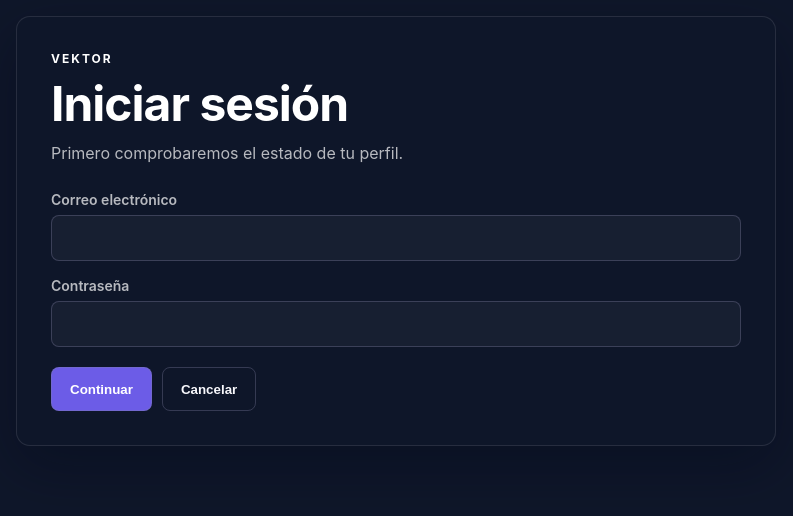
it: Login › debe mostrar error cuando el login falla
Step 1. Type "wrong@example.com" into the field labelled "Correo electrónico" → (396, 238), box [51,215,741,261]
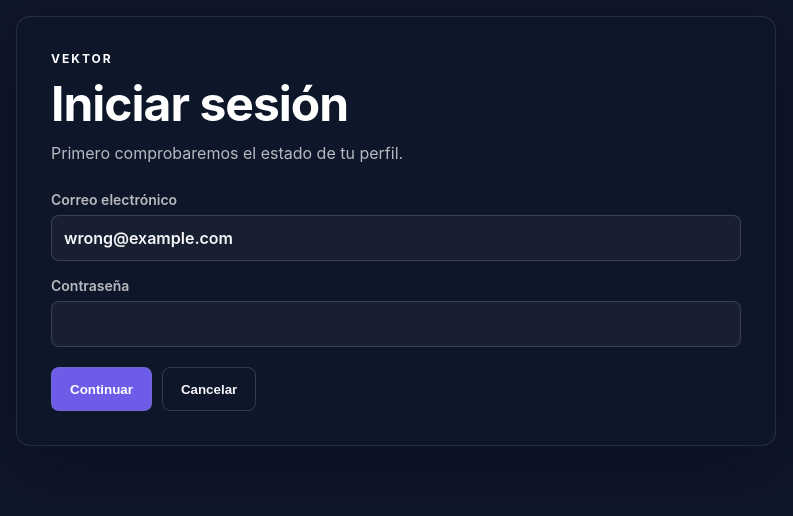
Step 2. Type "wrongpassword" into the password field labelled "Contraseña" → (396, 324), box [51,301,741,347]
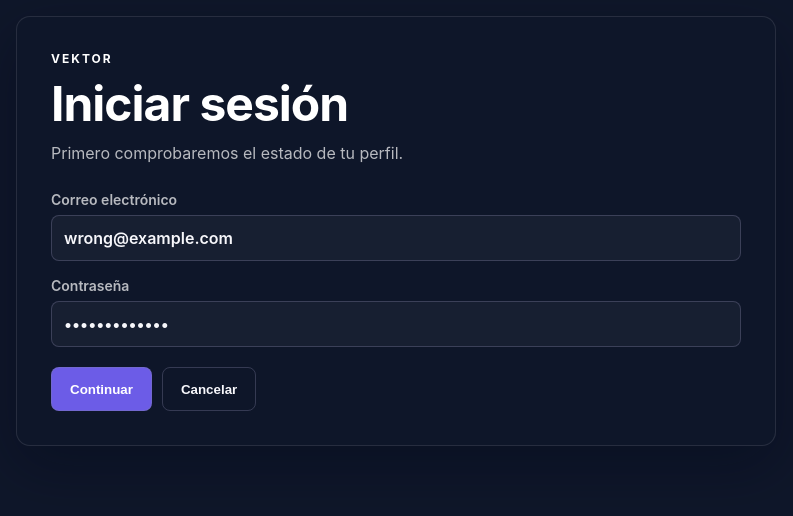
Step 3. Click the button "Continuar" → (101, 389), box [51,367,152,411]
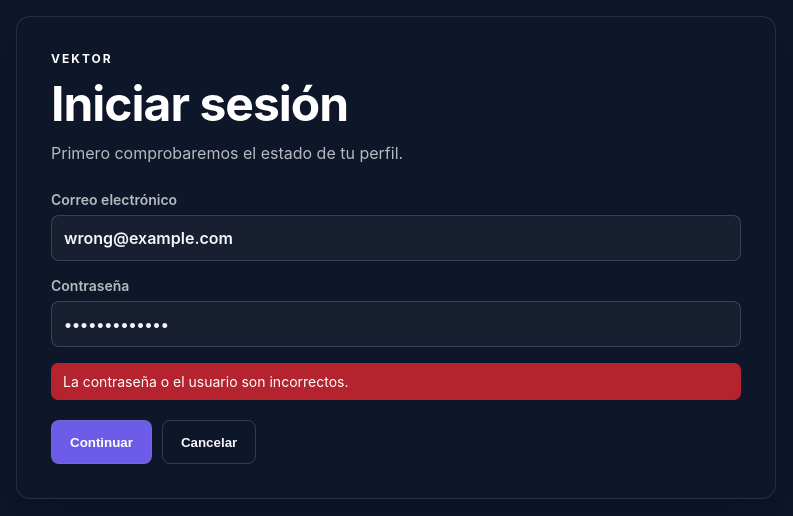
Check: the text "La contraseña o el usuario son incorrectos." is shown, box [51,363,741,400]
